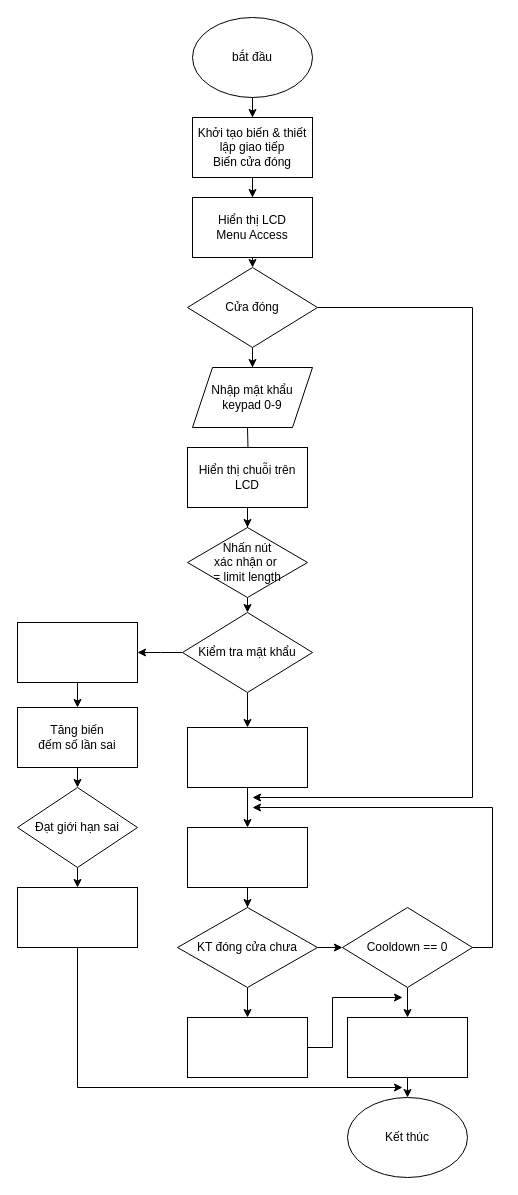
The diagram is 518 pixels wide and 1195 high, and some of its shapes have lost their labels. Each missing label, with the box of its shape:
báo động và hiển thị trong khoảng thời gian cooldown: (16, 886, 138, 948)
Cooldown = 0: (186, 1016, 308, 1078)
Cooldown thời gian đóng cửa: (186, 826, 308, 888)
Mở cửa: (186, 726, 308, 788)
Thông báo nhập sai mật khẩu: (16, 622, 138, 682)
Đóng cửa (biến đóng cửa = 1): (346, 1016, 468, 1078)
